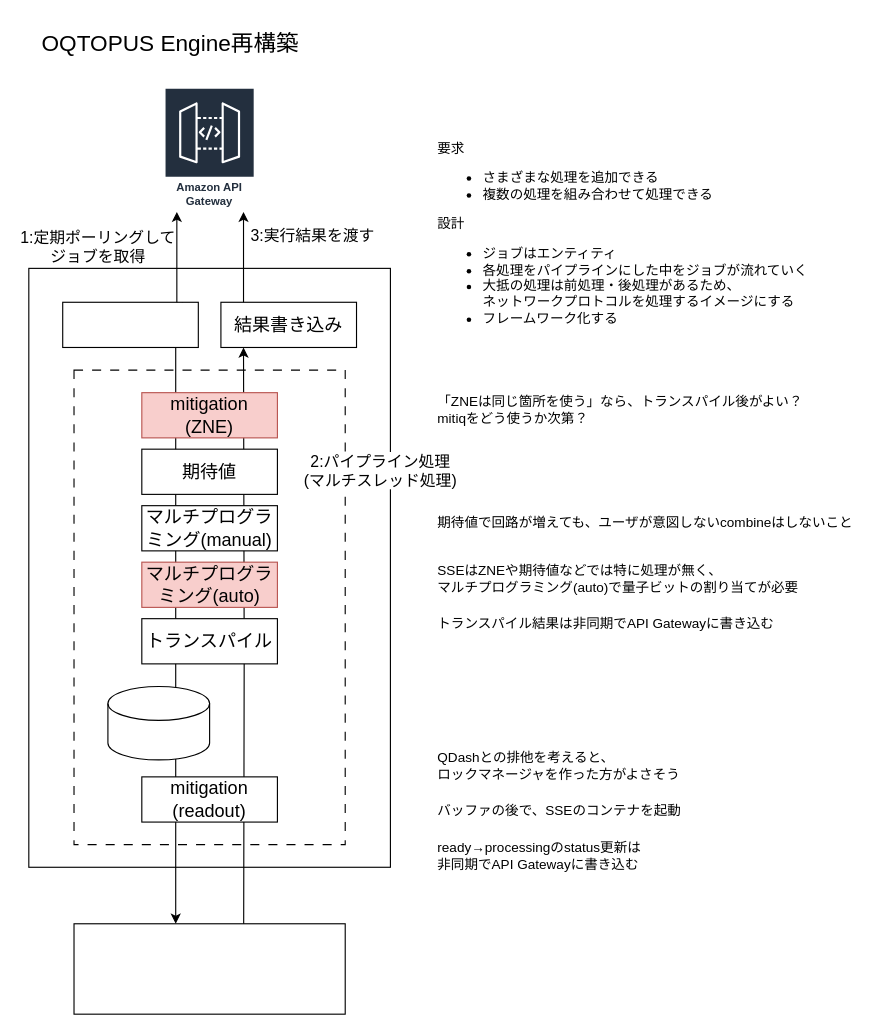
The diagram is 895 pixels wide and 1034 high, and some of its shapes have lost their labels. The shapes that lost their labels are listed below. From the top down, each one's box as (x1, y1, x2, y2) in pixels, then its label:
(62, 301, 198, 347): 定期ポーリング
(107, 685, 210, 760): バッファ
(73, 923, 345, 1014): device gateway
